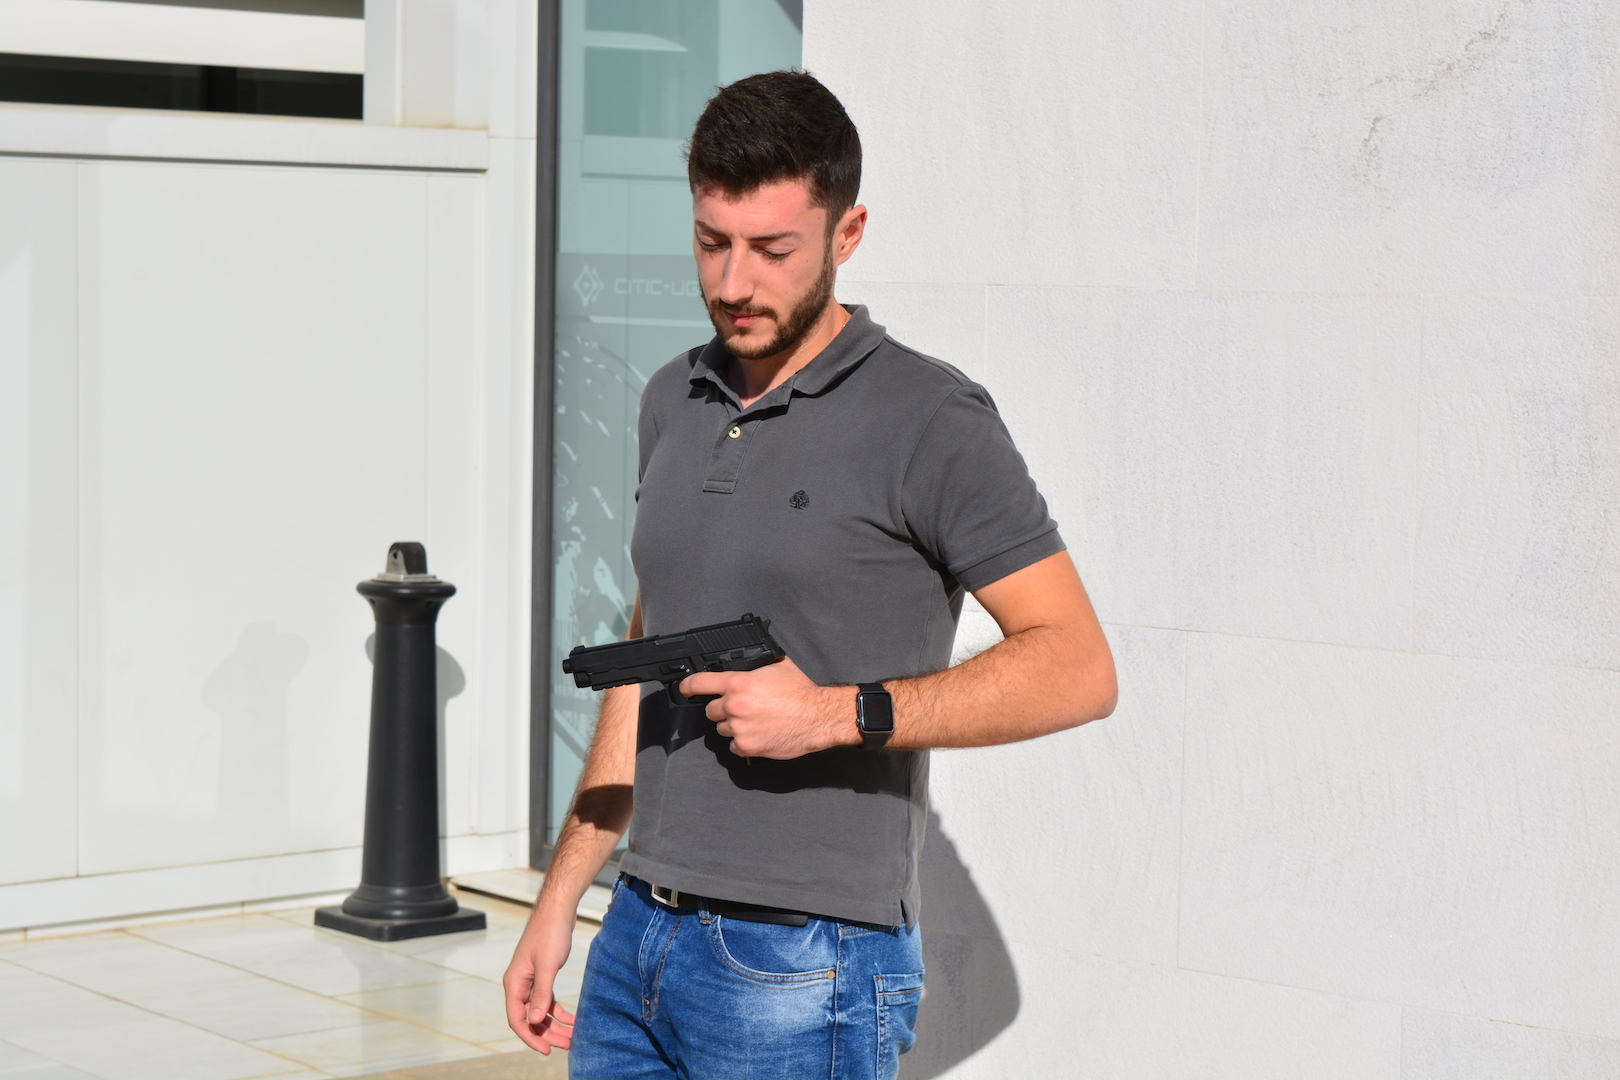pistol: (562, 612, 787, 710)
